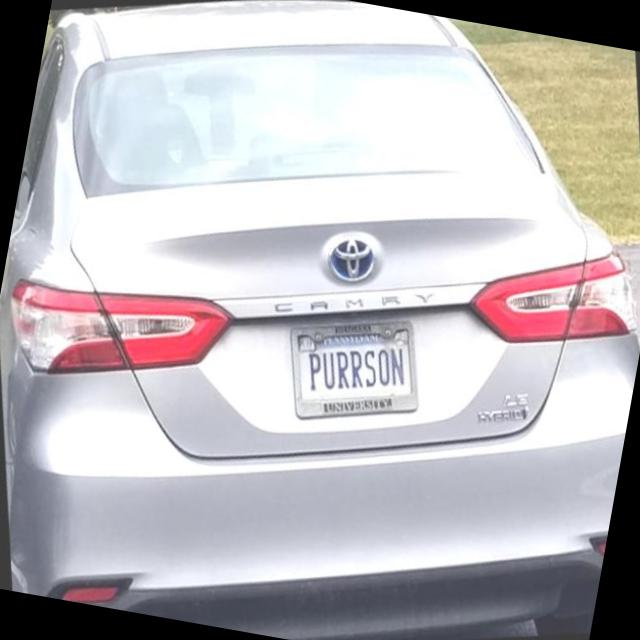LicensePlate: (289, 320, 419, 419)
